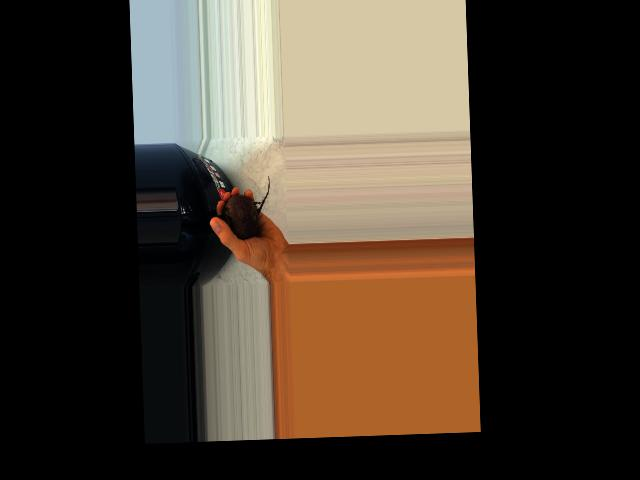beet: (216, 175, 271, 239)
